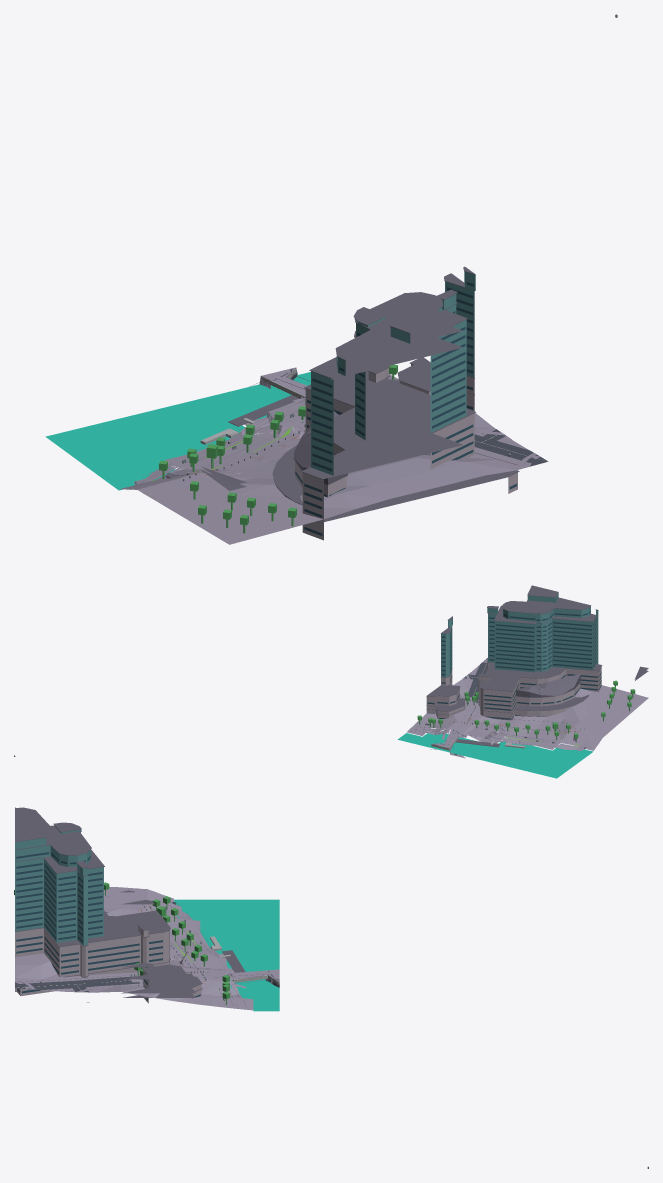
The picture shows the model from 3 angles, top to bottom: view 1: azimuth 30°, elevation 25°; view 2: azimuth 150°, elevation 25°; view 3: azimuth 270°, elevation 25°; orthographic projection. The views are drawn at different scales.
Visible parts, largest first — view 1: compiled-chunk; view 2: compiled-chunk; view 3: compiled-chunk.
Boxes of the visible parts, left/top/right/bottom form: compiled-chunk: left=45, top=14, right=617, bottom=544; compiled-chunk: left=14, top=585, right=648, bottom=778; compiled-chunk: left=14, top=807, right=648, bottom=1168.
Bounding box in the file's own units: 312 × 71.51 × 288.
